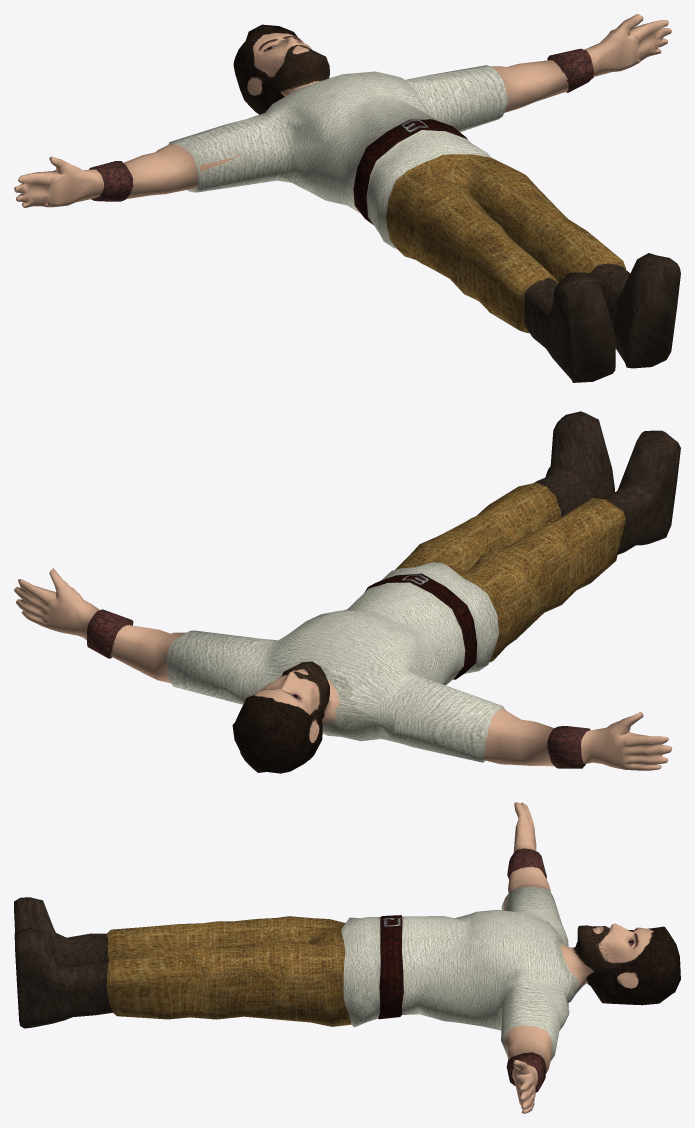
Rendered from lumberJack.DAE.
The picture shows the model from 3 angles, top to bottom: view 1: azimuth 30°, elevation 25°; view 2: azimuth 150°, elevation 25°; view 3: azimuth 270°, elevation 25°; orthographic projection. The views are drawn at different scales.
Visible parts, largest first — view 1: lumberJack; view 2: lumberJack; view 3: lumberJack.
Part boxes in pixels (x1,y1,x2,y2): lumberJack: (14,14,680,382); lumberJack: (14,411,680,773); lumberJack: (14,802,680,1113).
Size of the model in its own units: 0.186 by 0.0312 by 0.1818.
1 material, 1 textured.
